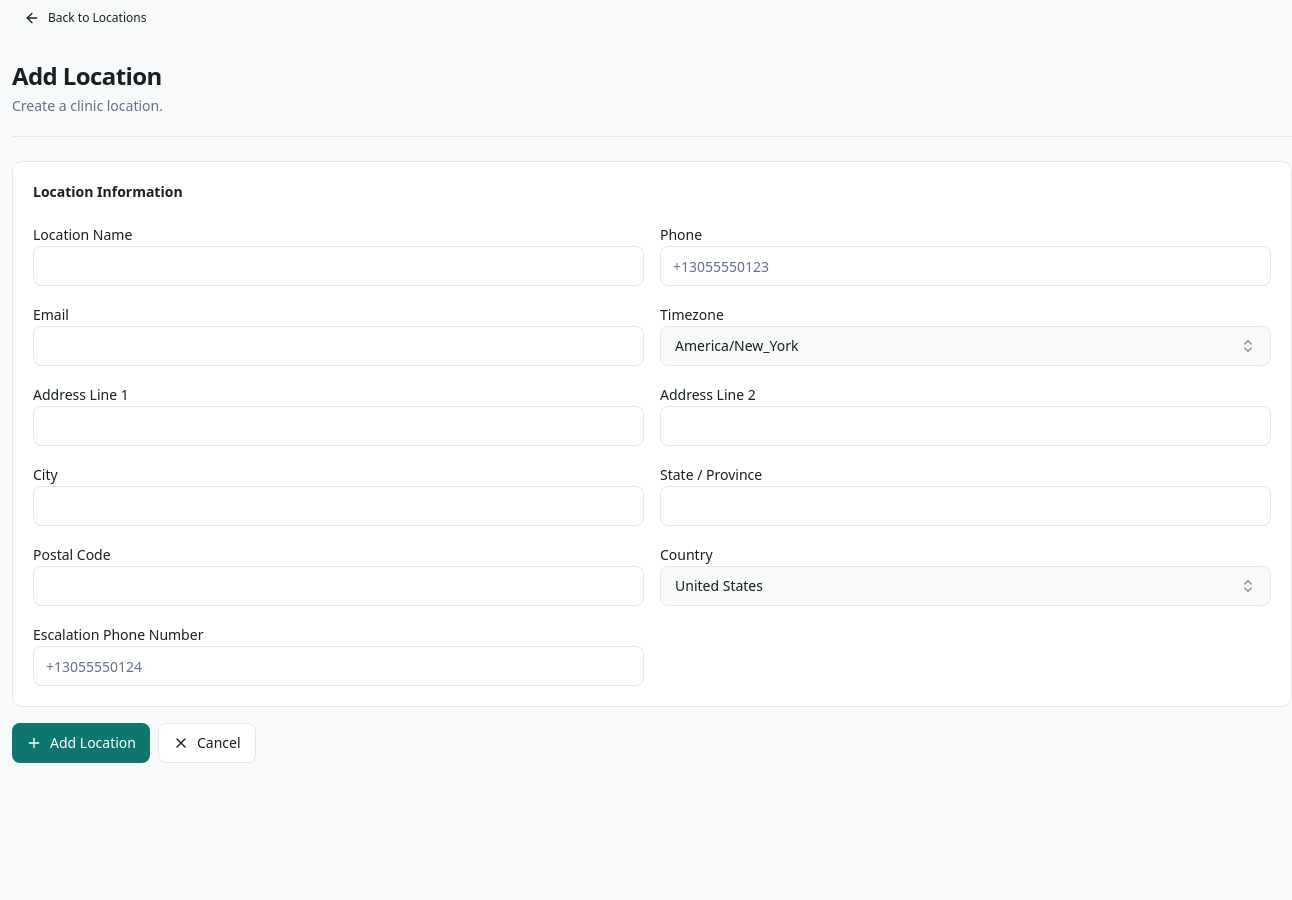
it: Location timezone field › keeps unknown failures at form level
In the field labelled "Location Name": (338, 266) [33,246,644,286], type "Clifton Branch"
In the field labelled "Phone": (966, 266) [660,246,1271,286], type "+923343683084"
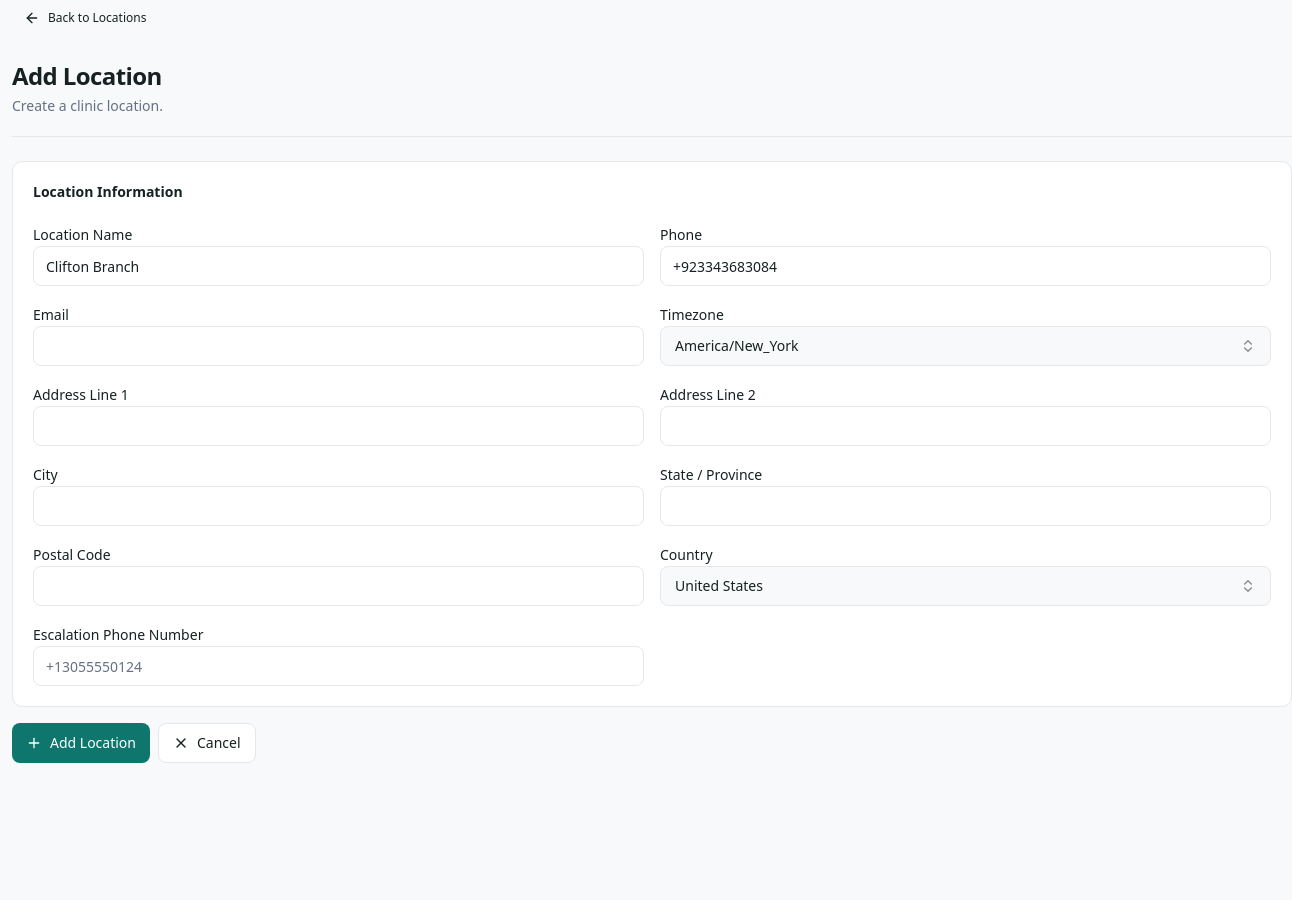
In the field labelled "Address Line 1": (338, 426) [33,406,644,446], type "1 Main St"
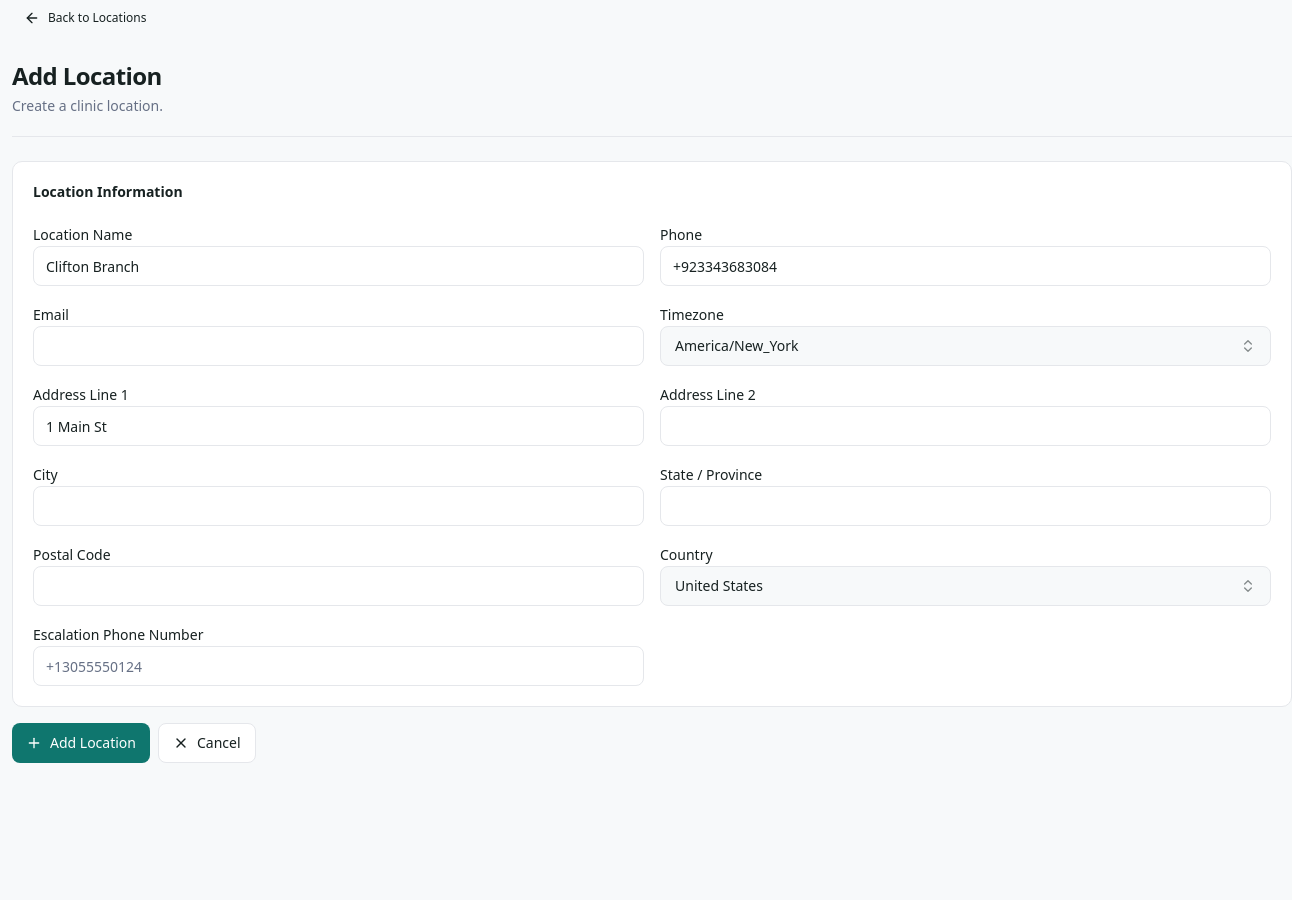
In the field labelled "City": (338, 506) [33,486,644,526], type "Karachi"
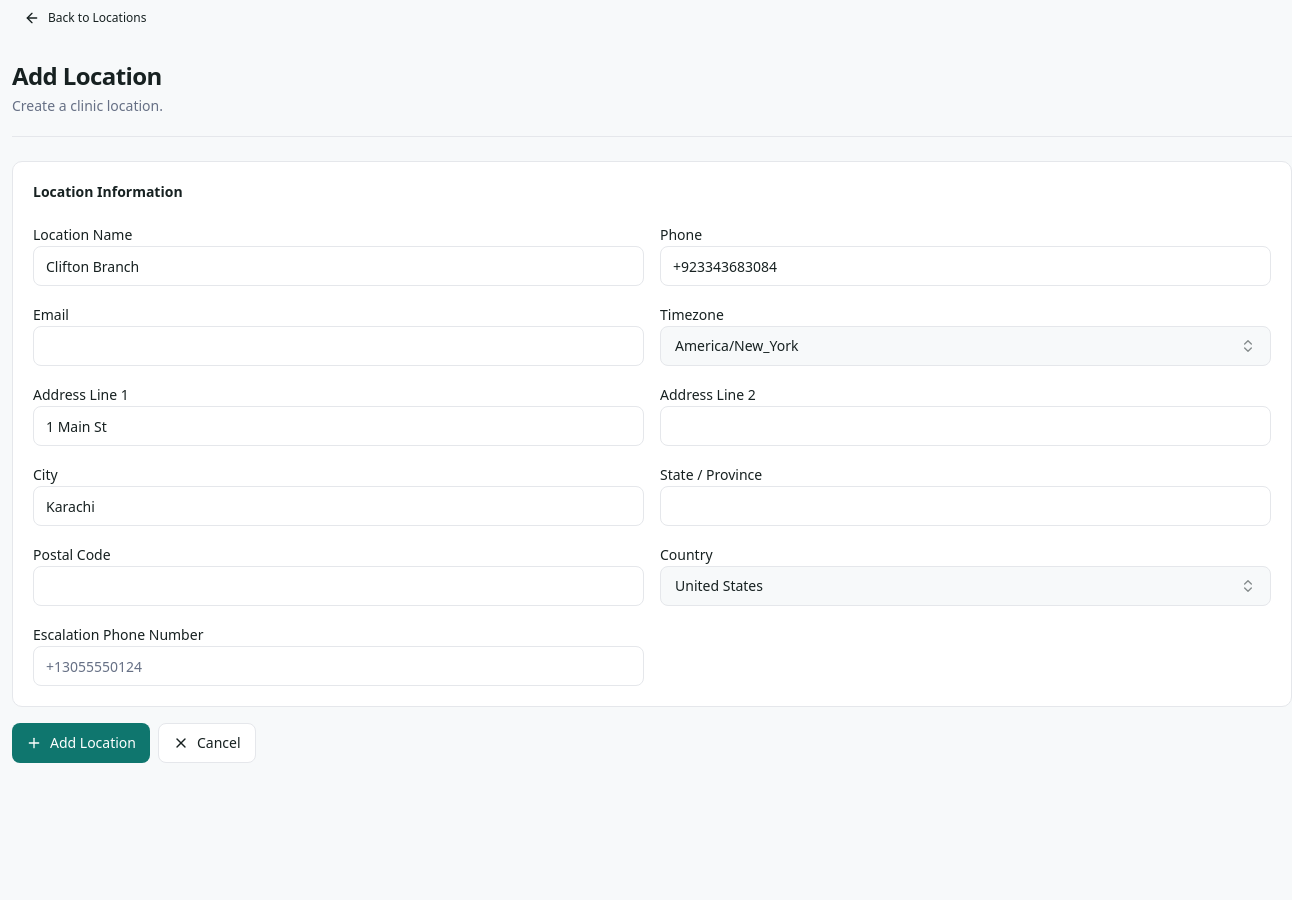
In the field labelled "State / Province": (966, 506) [660,486,1271,526], type "Sindh"
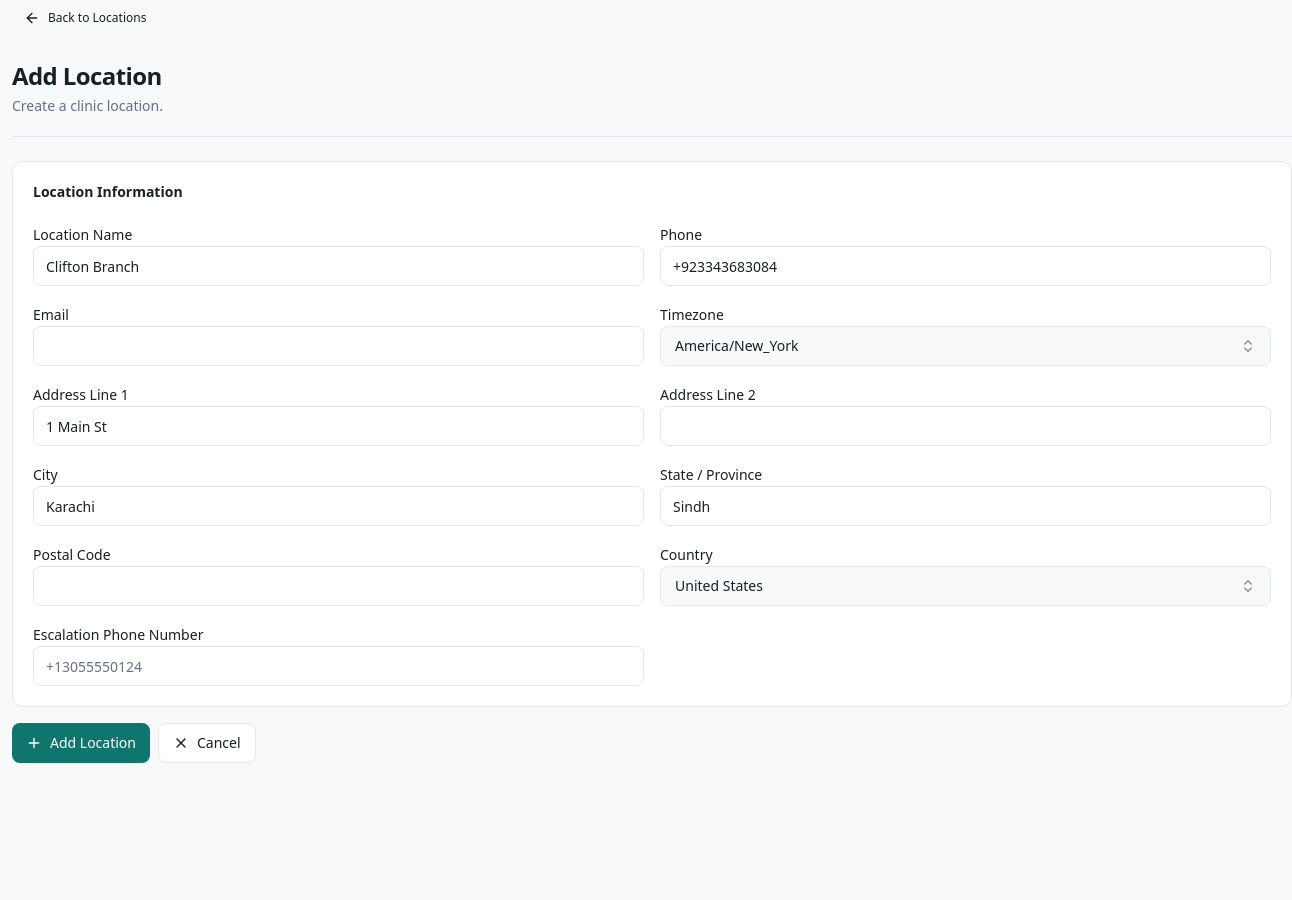
In the field labelled "Postal Code": (338, 586) [33,566,644,606], type "75230"
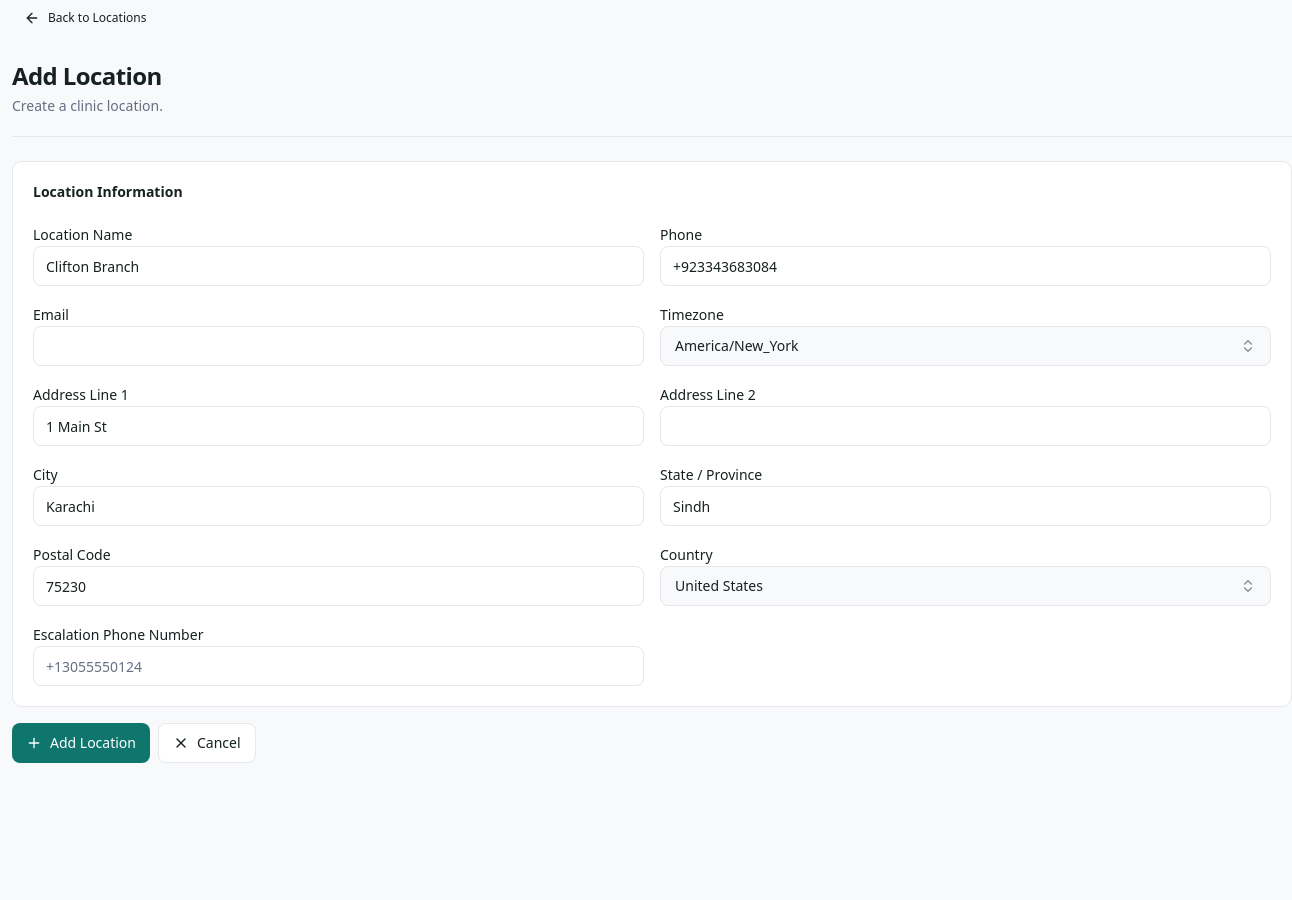
Click the button "Add Location": (81, 743) [12,723,150,763]
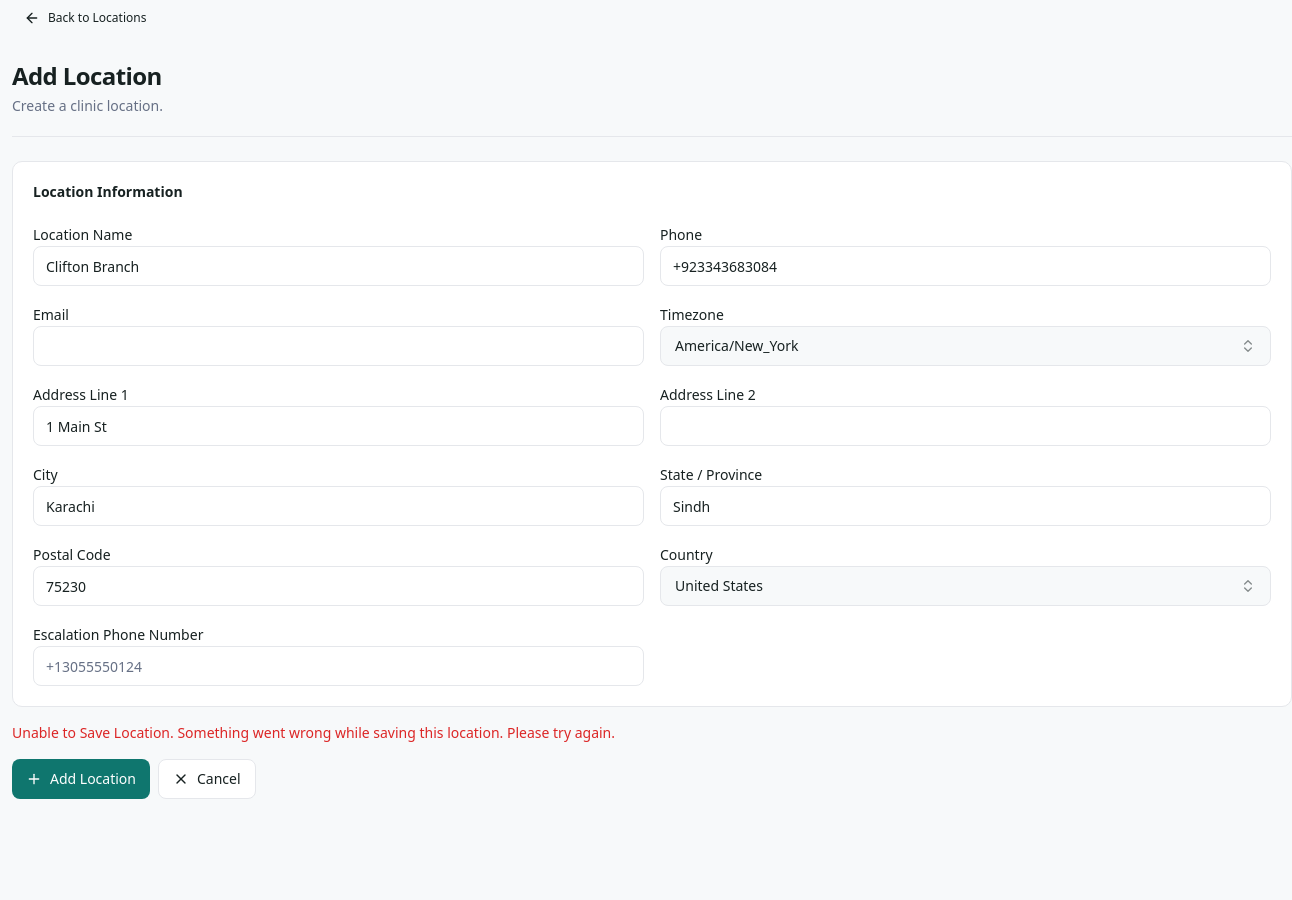
Result: the text "Unable to Save Location" is shown at [12,723,615,742]
